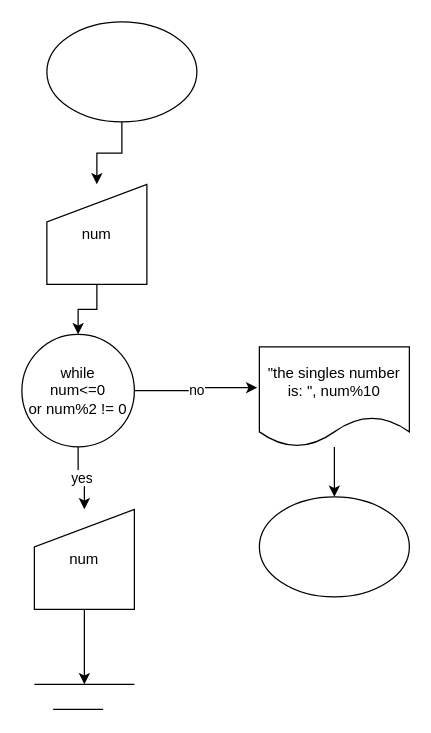
The diagram is 431 pixels wide and 733 high, and some of its shapes have lost their labels. Each missing label, with the centre of its shape:
"start" goes at (x=121, y=71).
"stop" goes at (x=333, y=546).
